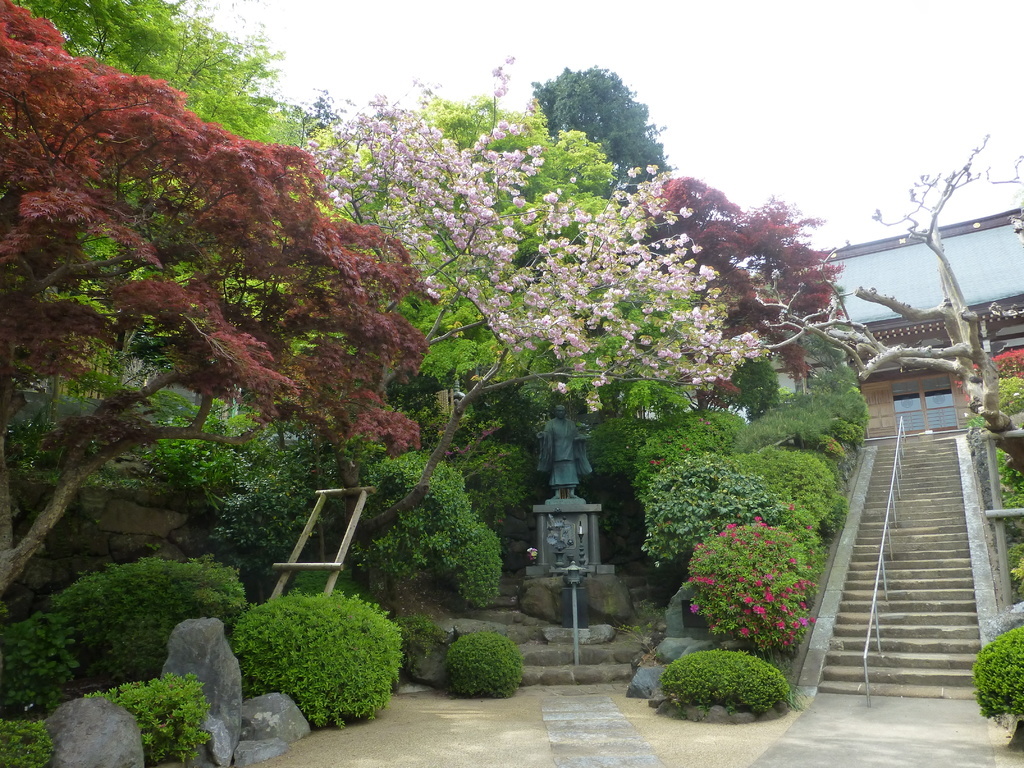Tree: (0, 0, 874, 723), (745, 120, 1023, 503)
